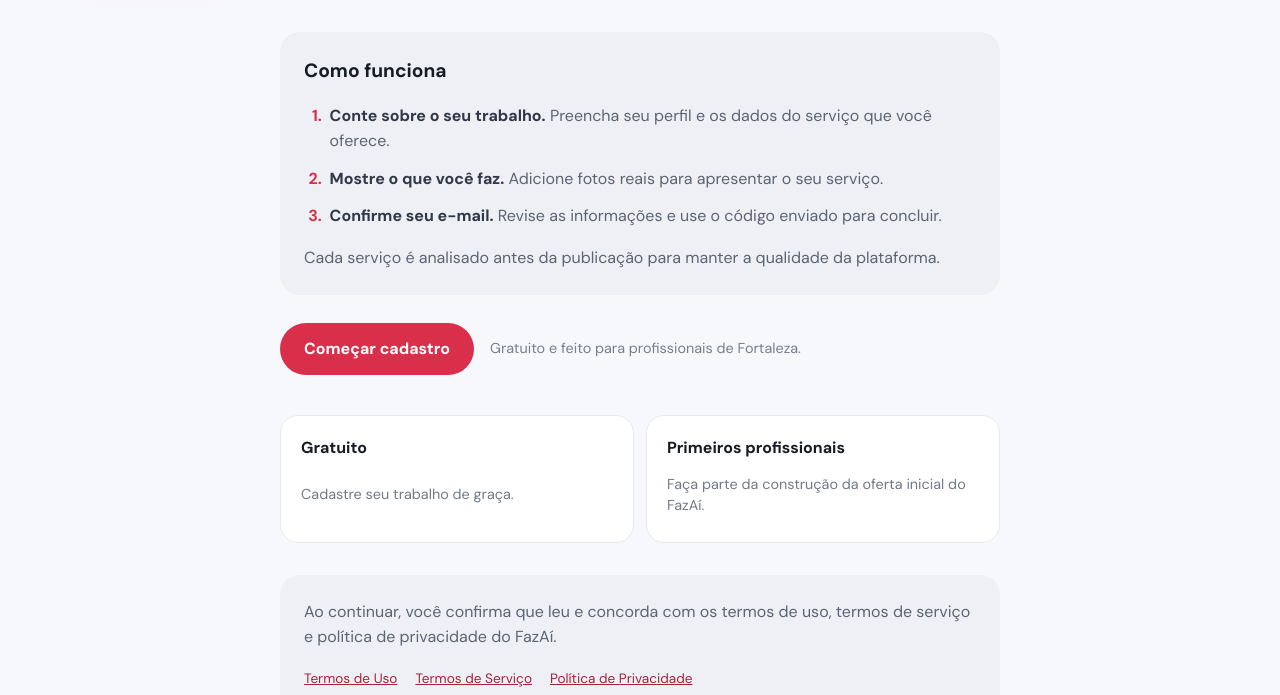
Test: public provider pre-registration flow › starts from the public landing page and loads the restricted Fortaleza catalog
This screenshot has width=1280, height=695.
(page scrolled)
Click the button "Começar cadastro" at (377, 349), box x1=280 y1=323 x2=474 y2=375
(page scrolled)
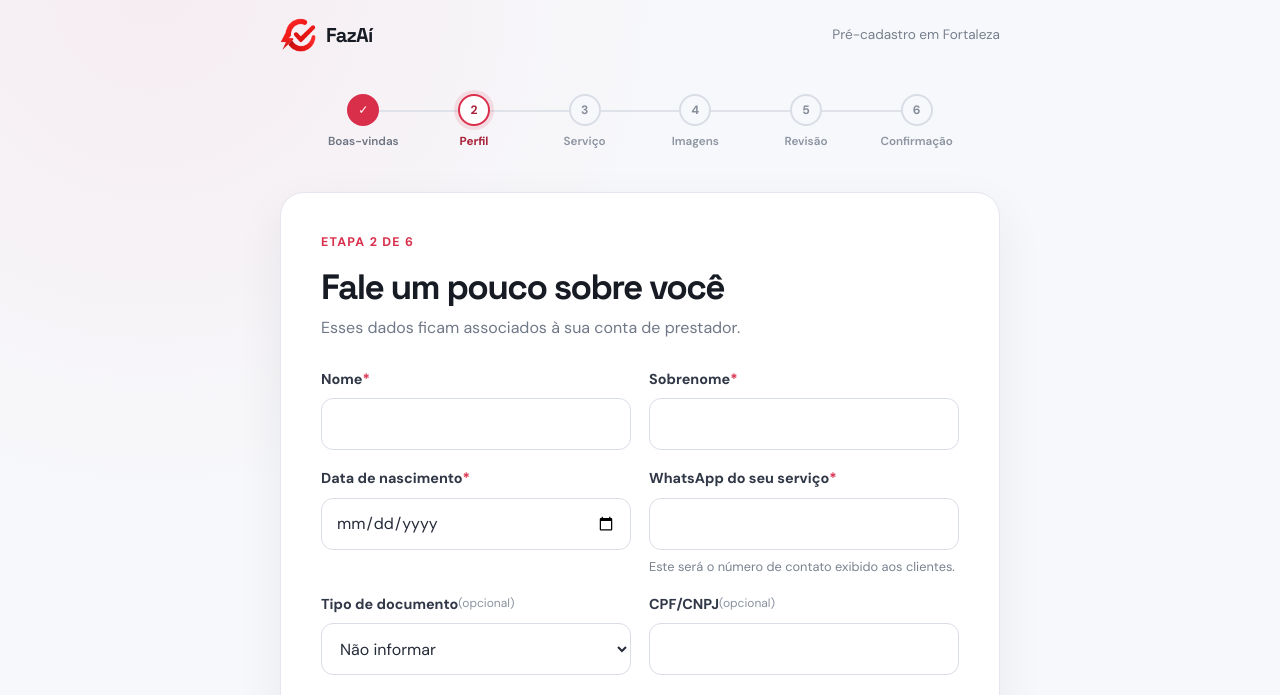
Expected: the heading "Fale um pouco sobre você" is shown, x1=321 y1=264 x2=724 y2=309
Expected: the text "Pré-cadastro em Fortaleza" is shown, x1=832 y1=25 x2=1000 y2=45
